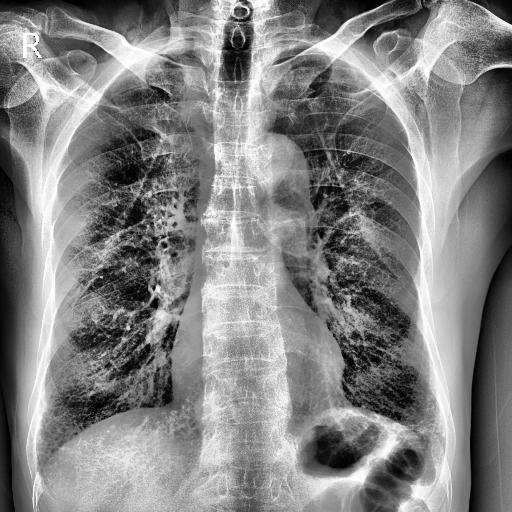0- Aortic enlargement: (248, 131, 310, 210), (242, 130, 312, 196), (248, 132, 309, 200)
11- Pleural thickening: (150, 39, 206, 60)
5- ILD: (35, 350, 146, 470), (326, 356, 448, 460), (369, 372, 447, 448), (36, 383, 101, 471), (36, 394, 82, 468), (400, 394, 443, 450)
